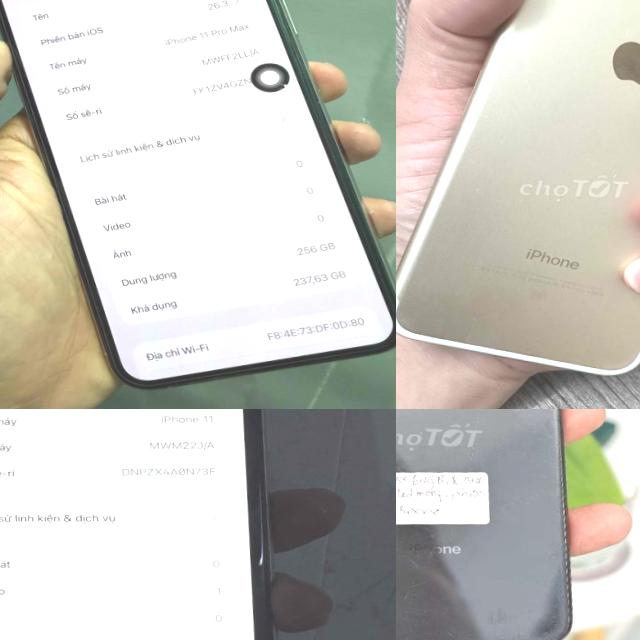gen_11: (0, 0, 396, 407), (0, 409, 298, 640)
gen_7_8: (396, 0, 640, 394)
gen_x_xs: (396, 409, 607, 640)
